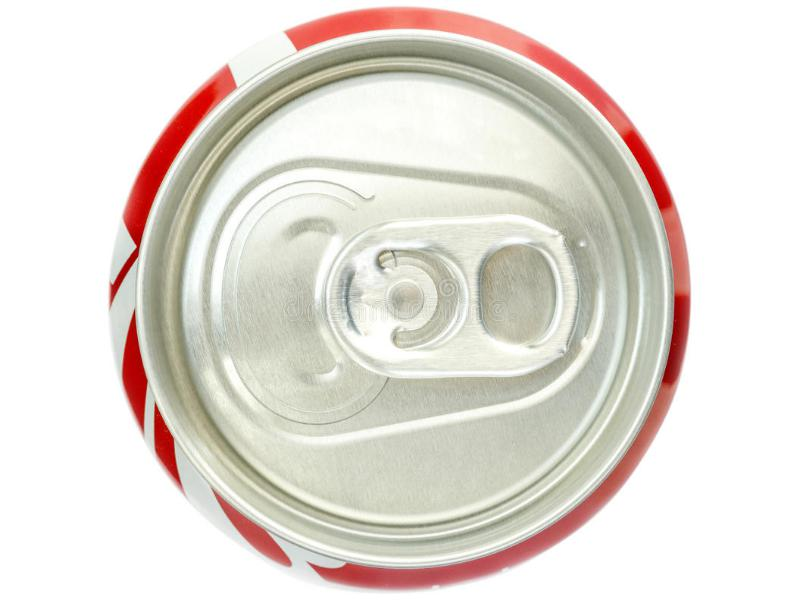can: (96, 4, 702, 600)
